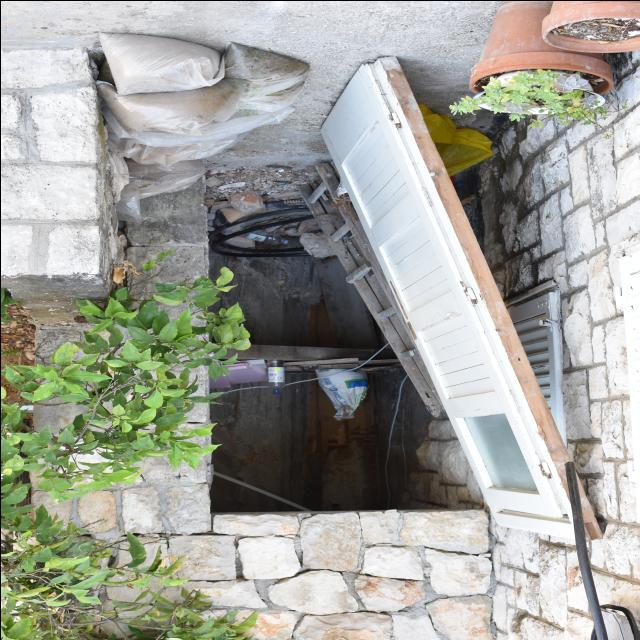entulho: (316, 58, 599, 544), (298, 158, 446, 418), (94, 28, 311, 155), (461, 0, 637, 98), (205, 206, 323, 258), (112, 157, 211, 210)
lixo domiciliar: (266, 360, 286, 392)
